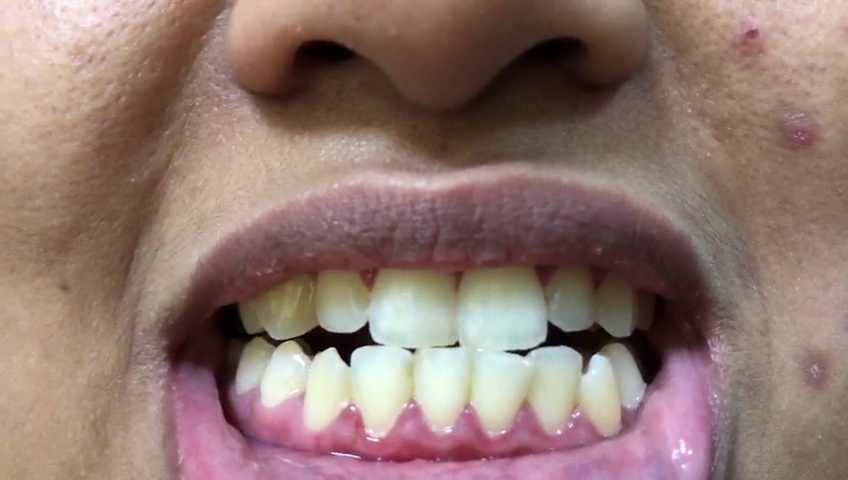1st Premolar: (262, 343, 307, 408), (604, 347, 644, 413)
2nd Premolar: (237, 342, 274, 394)
Canine: (254, 263, 316, 340), (304, 348, 350, 431), (579, 353, 623, 438), (599, 263, 638, 339)
Central Incisor: (458, 253, 549, 352), (369, 258, 459, 349), (470, 353, 531, 442), (415, 350, 470, 437)
Lateral Incisor: (350, 345, 416, 439), (526, 348, 582, 442), (316, 260, 372, 333), (548, 254, 598, 333)
